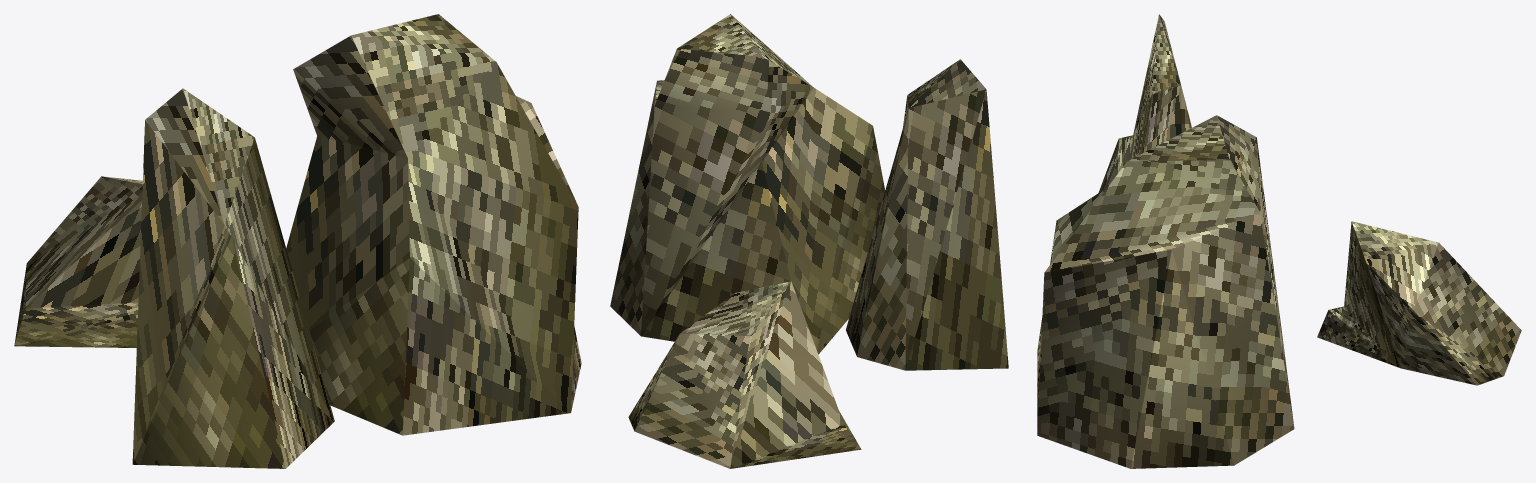
File: Environment - Prop - Rock Cluster Large 01 - PMlclusters.glb
3 renders of one model, left to right at view 1: azimuth 30°, elevation 25°; view 2: azimuth 150°, elevation 25°; view 3: azimuth 270°, elevation 25°, orthographic. The views are drawn at different scales.
Parts seen in each view (by area): view 1: PMLCLUSTERS; view 2: PMLCLUSTERS; view 3: PMLCLUSTERS.
Part boxes in pixels (x1=…): PMLCLUSTERS: x1=14, y1=14, x2=581, y2=468; PMLCLUSTERS: x1=610, y1=14, x2=1008, y2=468; PMLCLUSTERS: x1=1037, y1=14, x2=1521, y2=468.
Bounding box in the file's own units: 31.21 × 24.66 × 35.8.
Materials: 1 (1 with a texture image).
